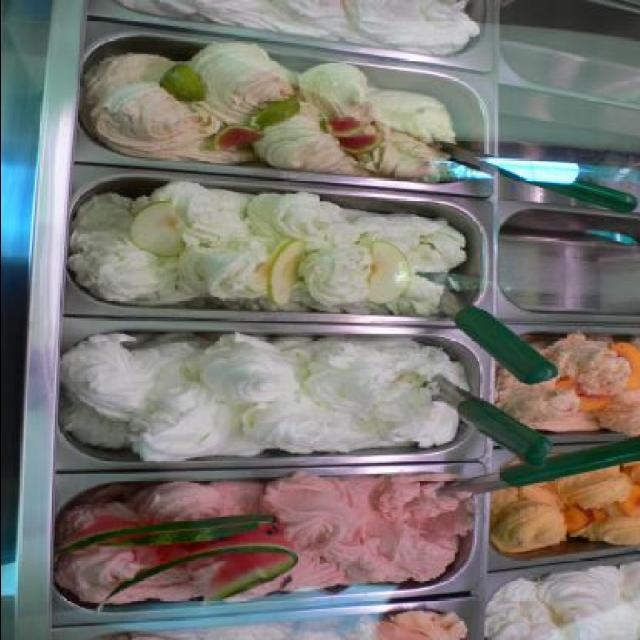Ice cream: (61, 473, 478, 613), (64, 178, 467, 318), (82, 42, 458, 180), (59, 331, 473, 449), (116, 0, 483, 58), (483, 449, 640, 562), (492, 332, 640, 440), (478, 550, 640, 638), (89, 607, 466, 640)
